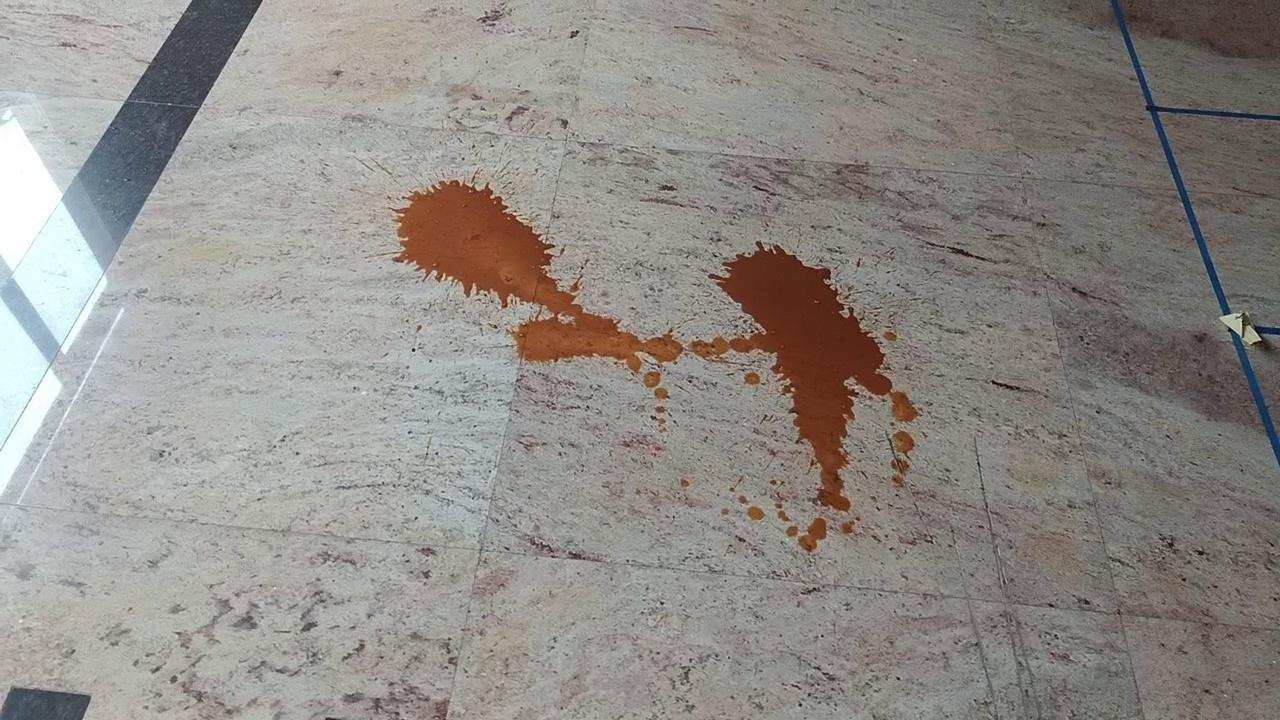dirty_floor: (395, 180, 917, 555)
